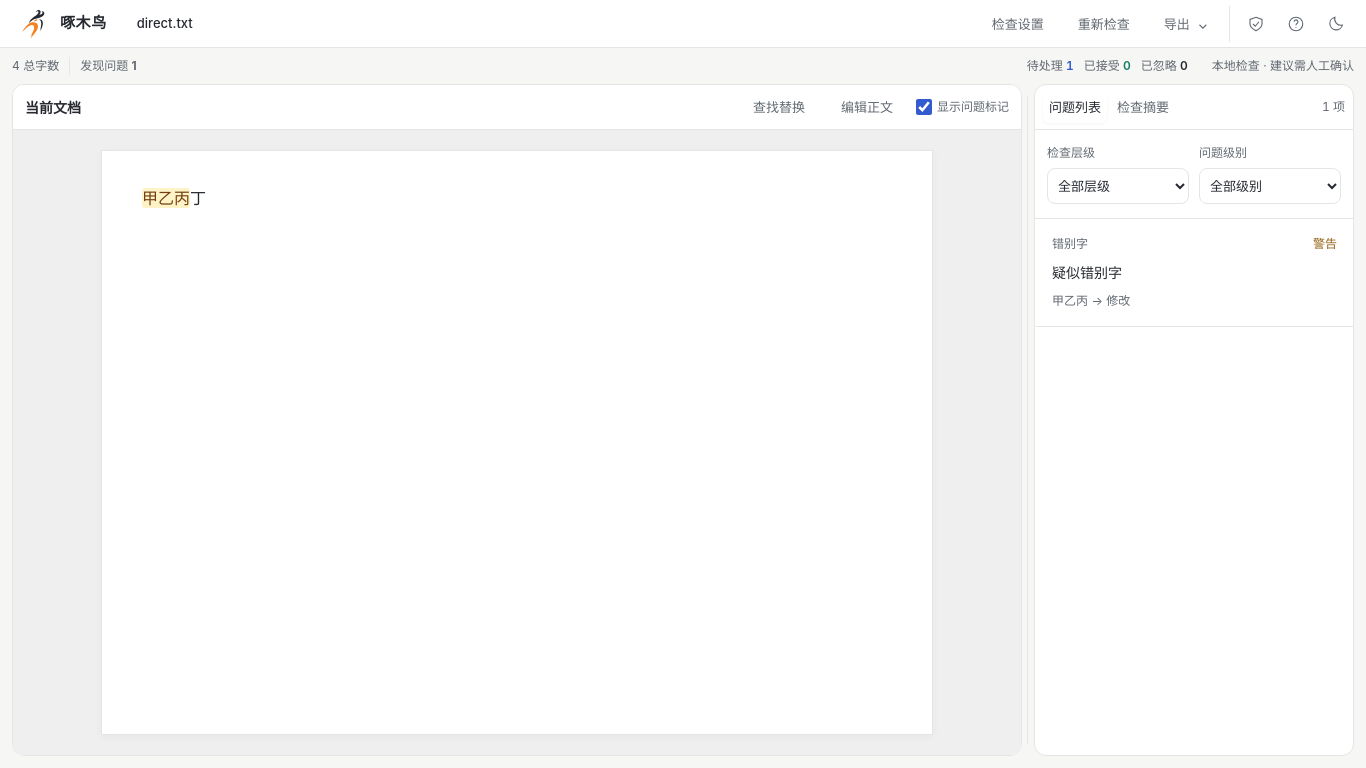
Test: WorkspaceView › reviews individual issues and updates counts without a top action menu
The image size is (1366, 768).
Expected: the text "1" next to "待处理" is shown, [1066,58,1074,73]
Click the button "错别字 警告 疑似错别字 甲乙丙 → 修改" at (1070, 244), box [1052,235,1337,310]
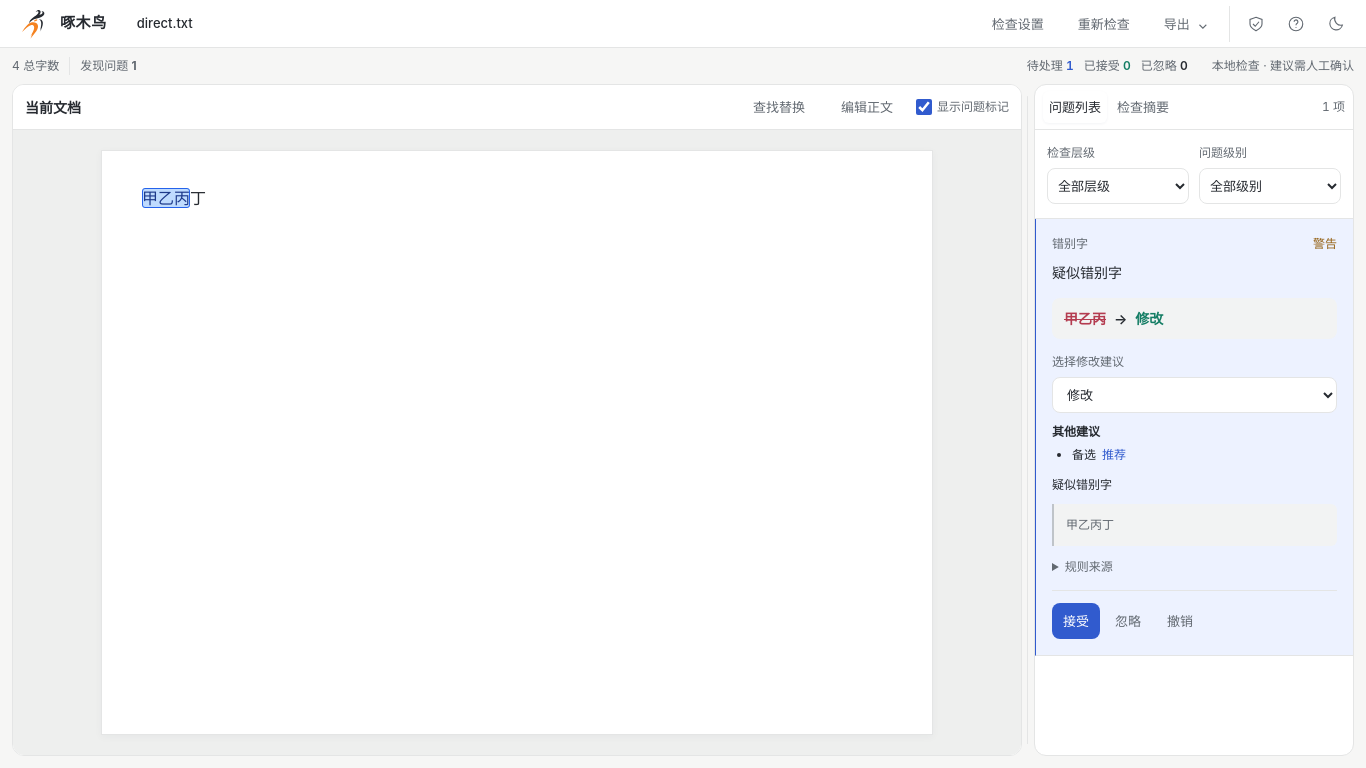
Click the button with class "accept" at (1076, 621), box [1052,603,1100,639]
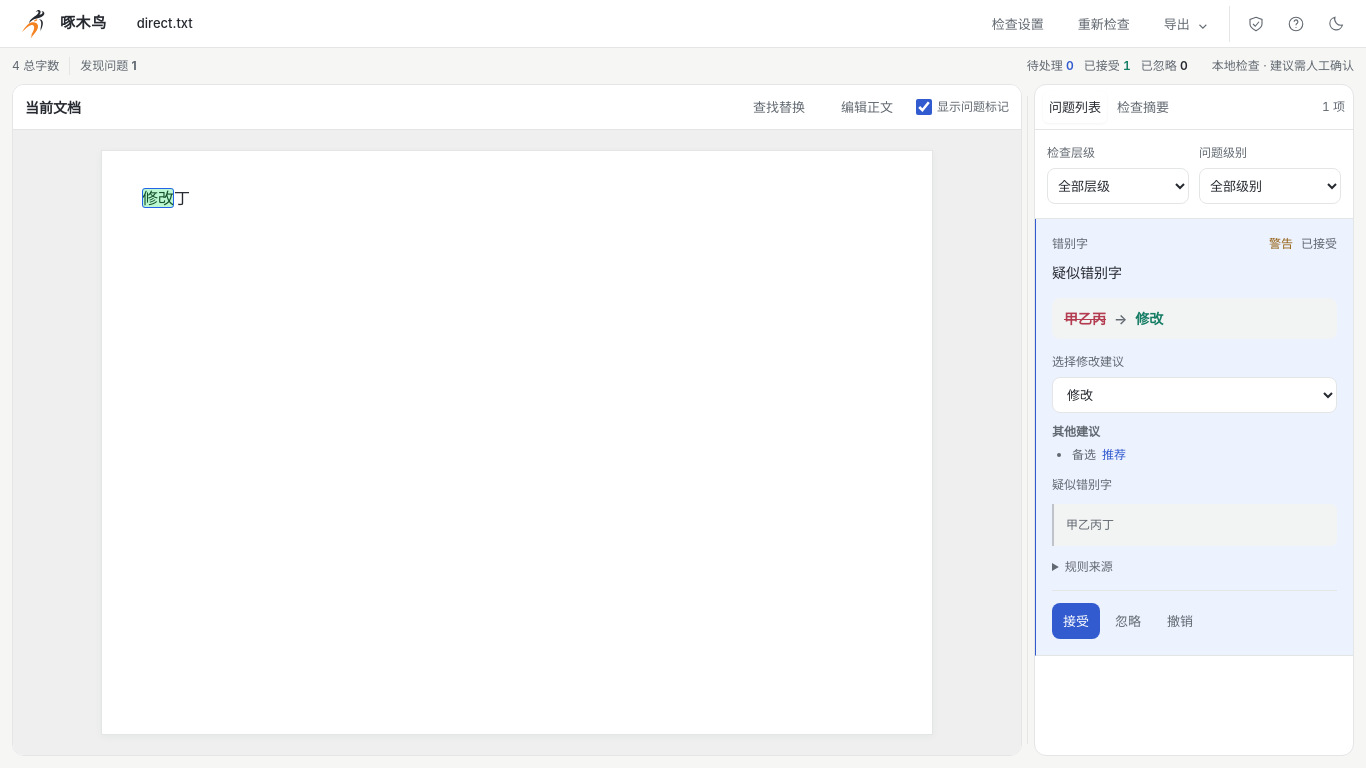
Result: the text "1" next to "已忽略" is shown at [1123,58,1131,73]
Result: the text "0" next to "待处理" is shown at [1066,58,1074,73]
Result: the element showing "修改 丁" is shown at [101,150,933,735]
Click the button with class "reject" at (1128, 621), box [1104,603,1152,639]
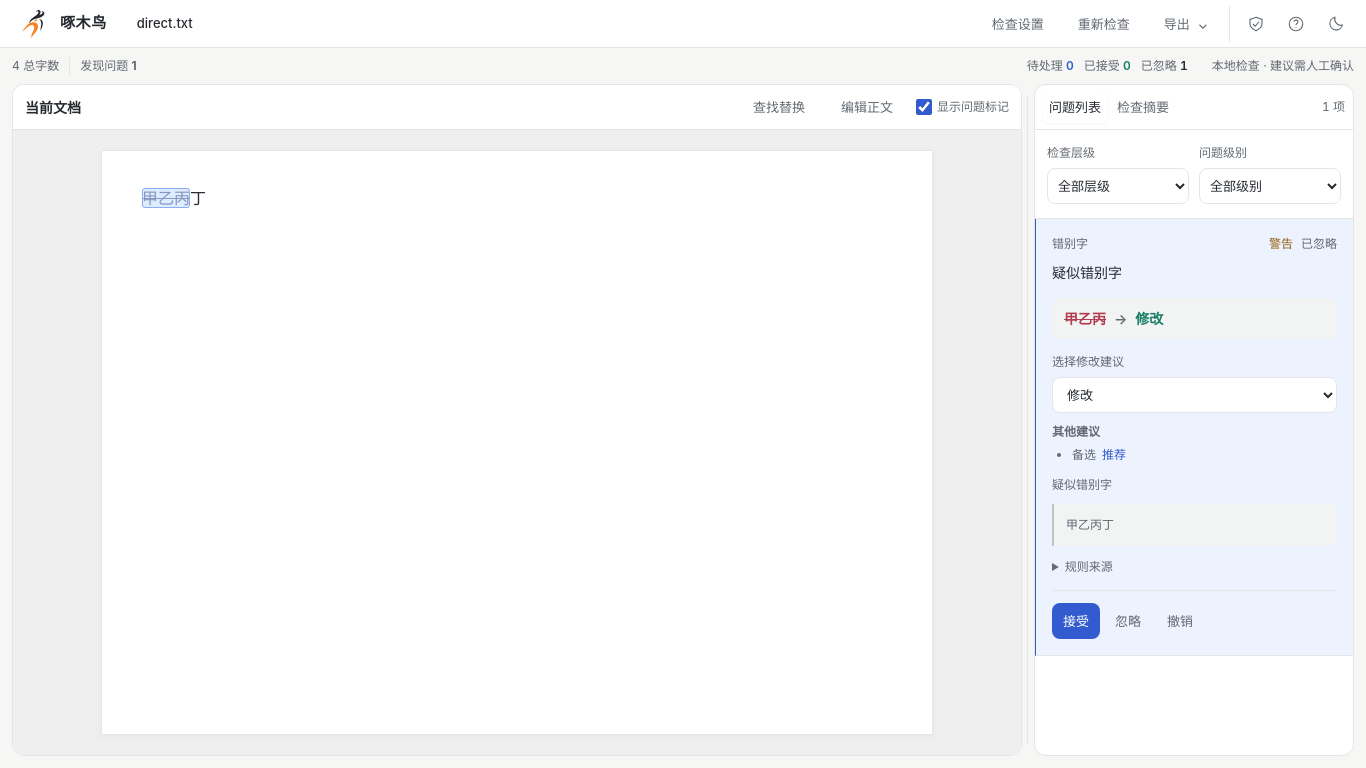
Result: the text "0" next to "已接受" is shown at [1123,58,1131,73]
Result: the text "1" in the row of "已接受" is shown at [1180,58,1188,73]
Result: the element showing "甲乙丙 丁" is shown at [101,150,933,735]
Click the button with class "undo" at (1180, 621), box [1156,603,1204,639]
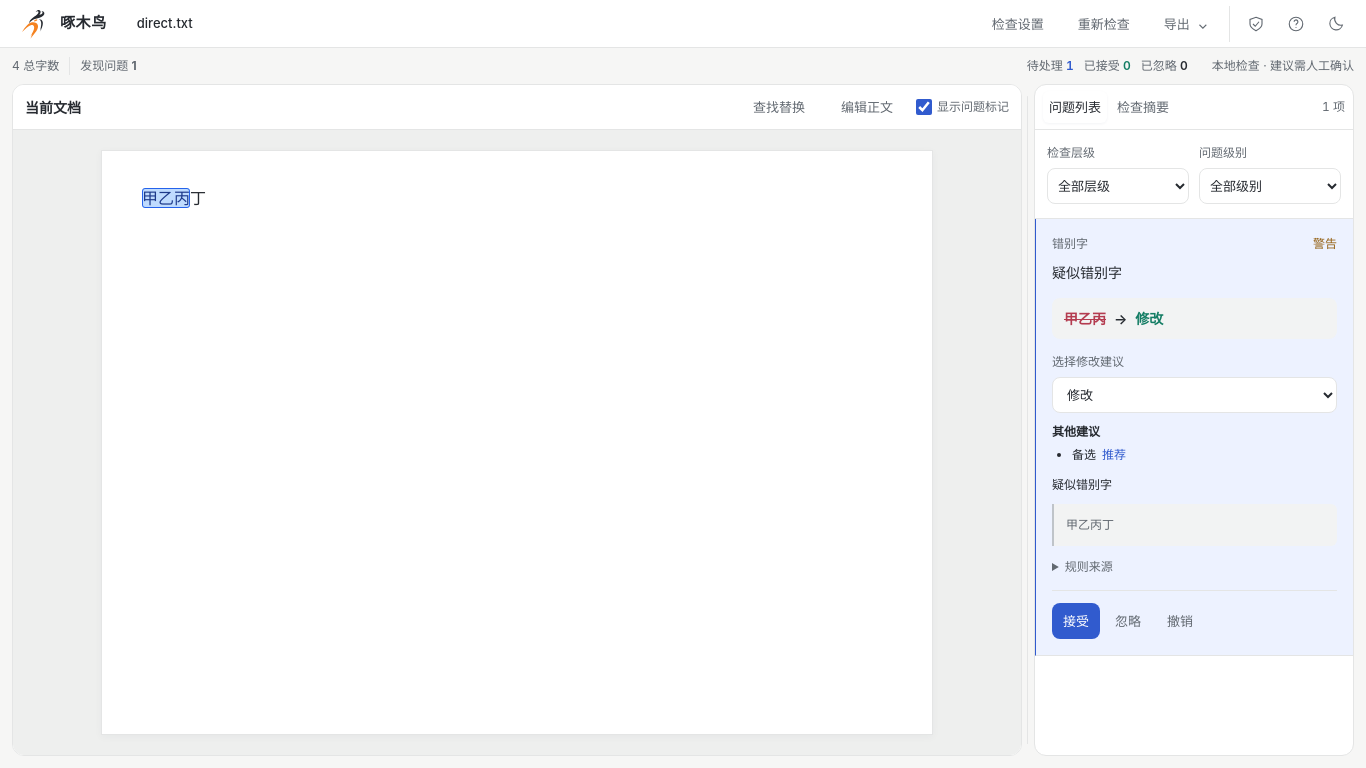
Result: the element showing "甲乙丙 丁" is shown at [101,150,933,735]
Result: the text "1" next to "待处理" is shown at [1066,58,1074,73]
Result: the text "0" next to "已忽略" is shown at [1180,58,1188,73]
